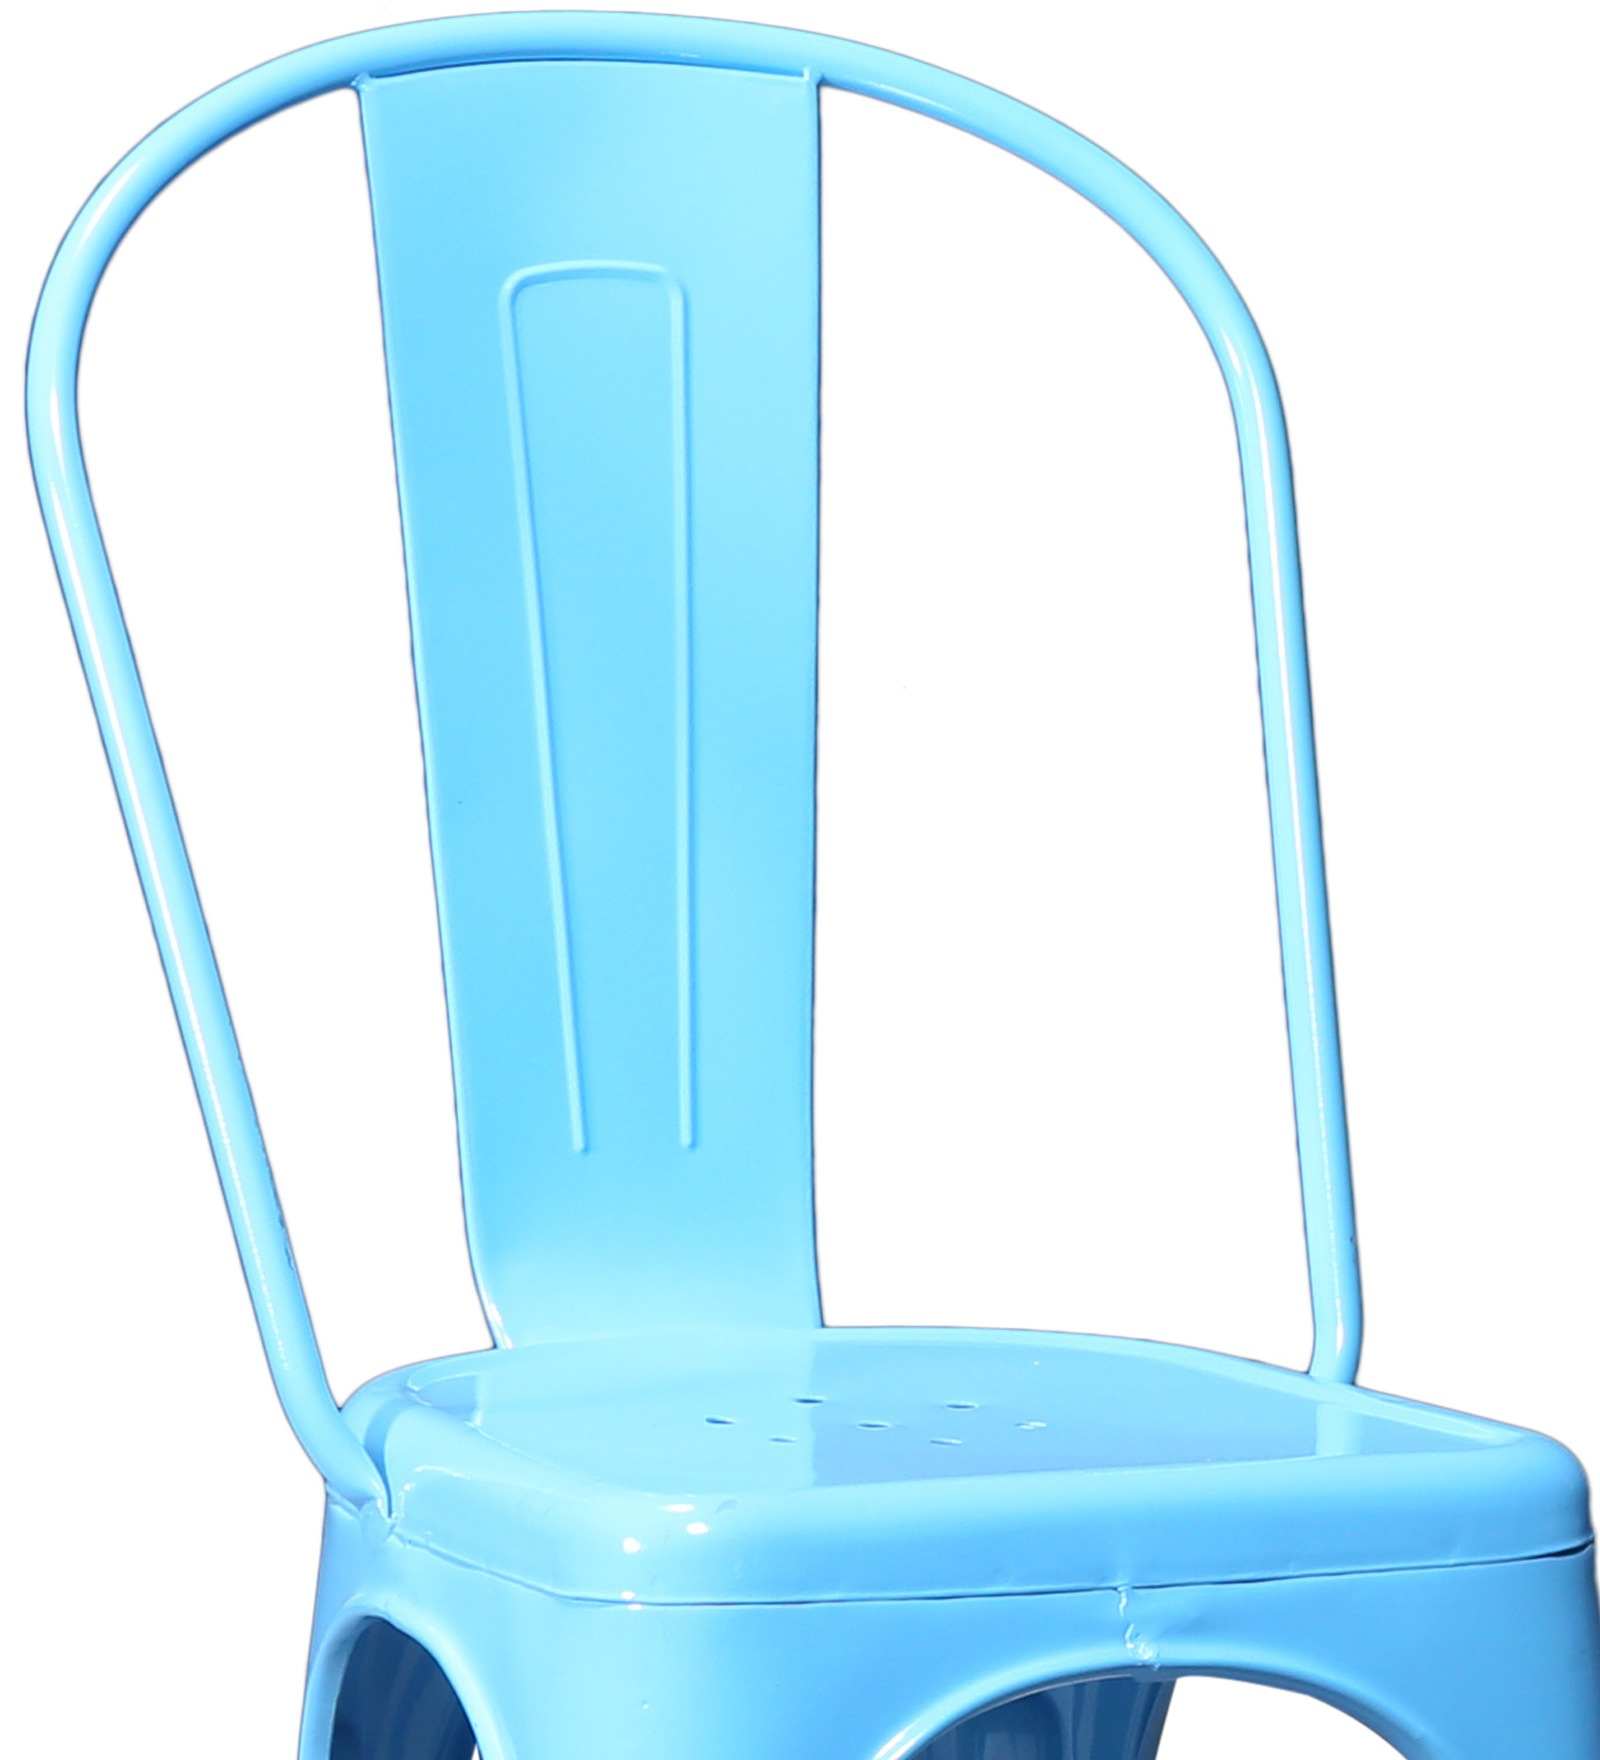Ekati Metal Chair in Blue Color by Bohemiana: (23, 2, 1600, 1752)
